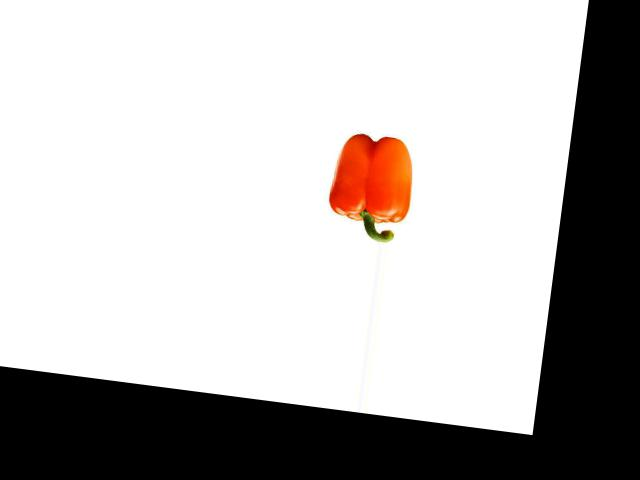bell_pepper: (316, 128, 427, 246)
